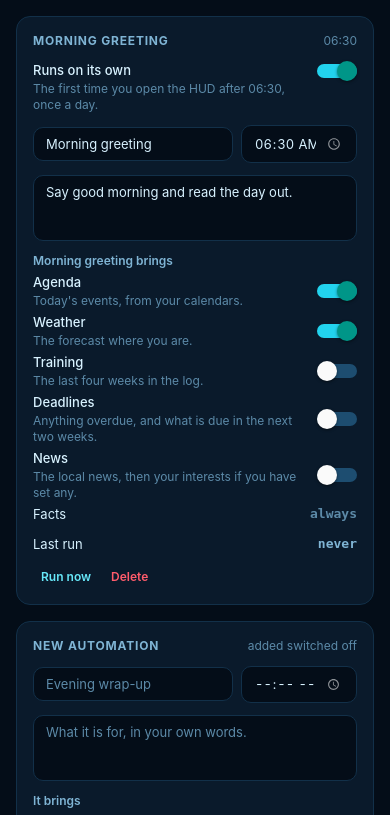
puts the stored time back when the field is cleared
Clear the time field with test id "automation-1-time" at (299, 144), box x1=241 y1=125 x2=357 y2=163
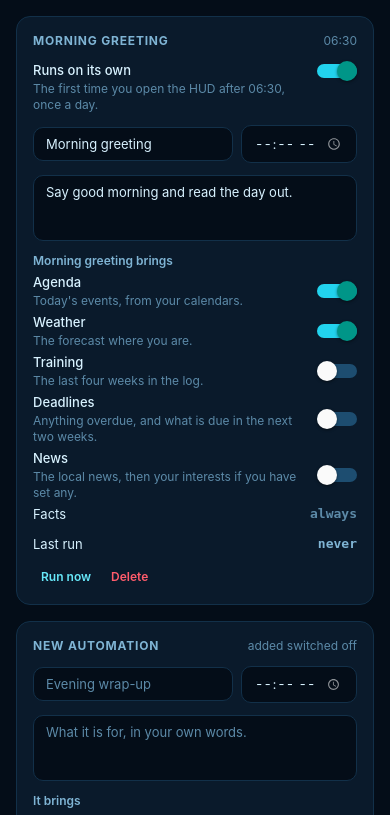
Leave the time field with test id "automation-1-time", box x1=241 y1=125 x2=357 y2=163
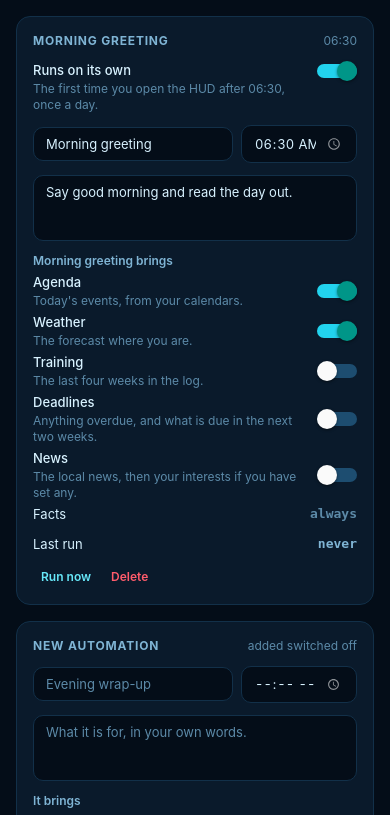
Check: the time field with test id "automation-1-time" holds "06:30", box x1=241 y1=125 x2=357 y2=163
